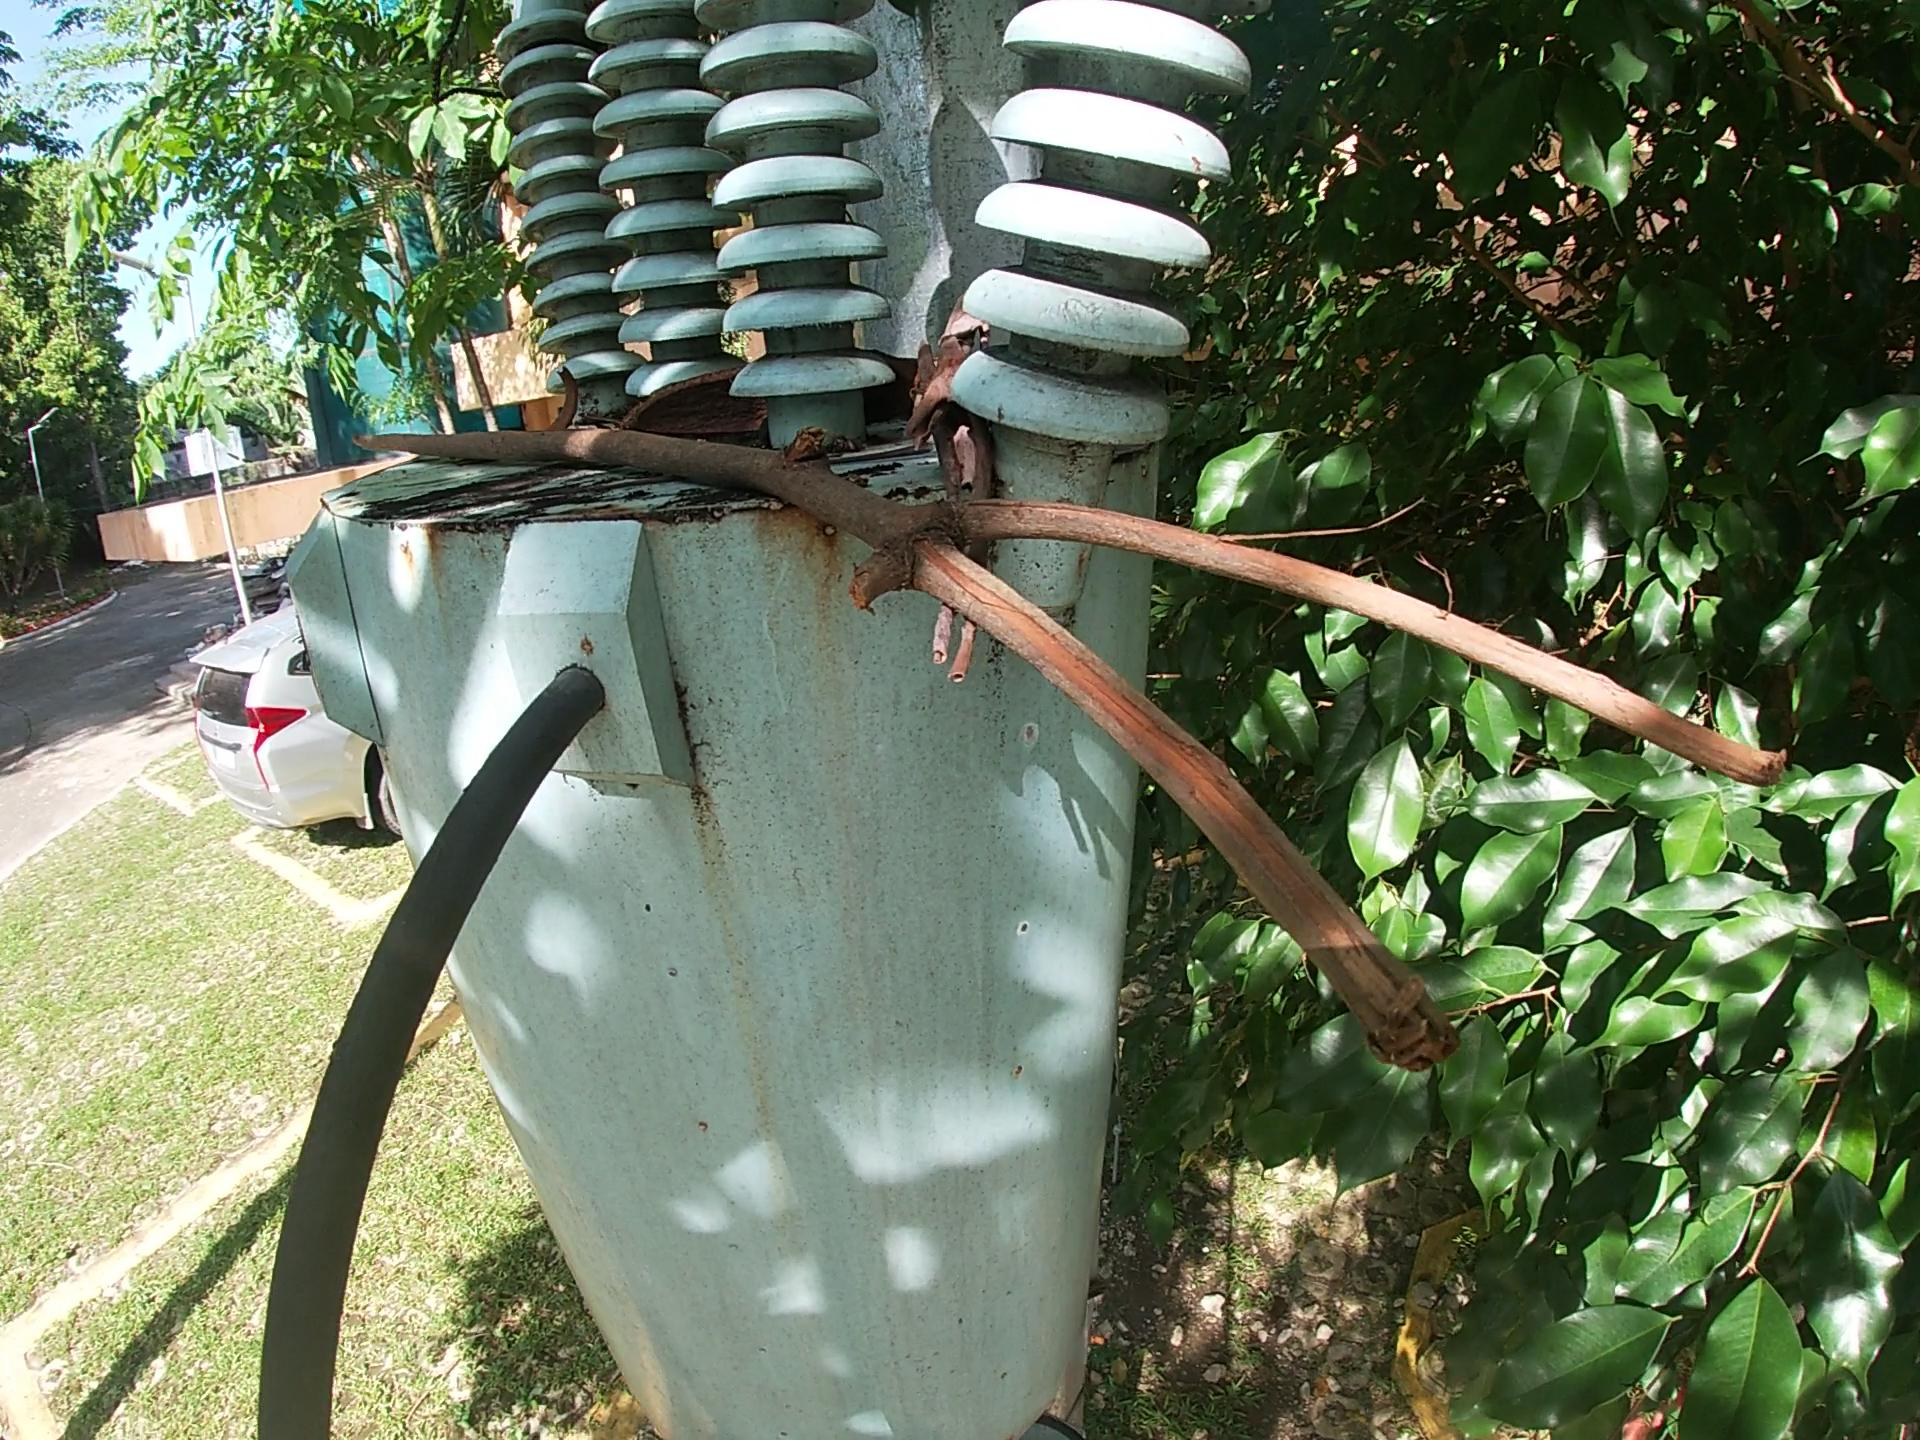mahogany fruit: (618, 343, 931, 442), (544, 362, 587, 428)
tree branch: (342, 413, 1799, 1078), (897, 287, 1011, 697)
